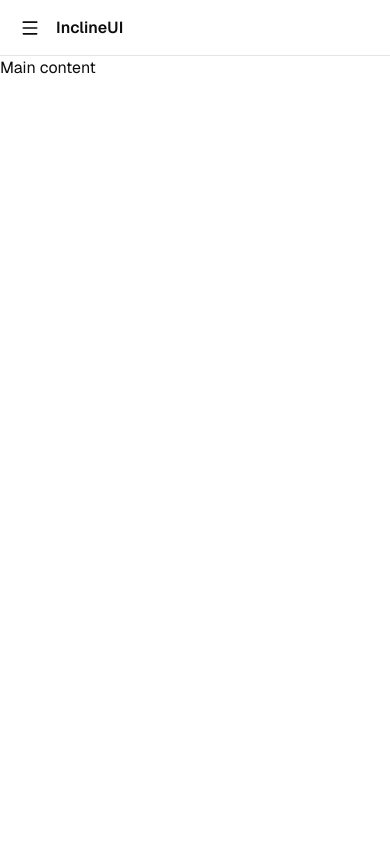
Scenario: <AppShell /> on mobile › closes when the overlay is clicked
Click the button named "Open sidebar": coordinates (30, 28) left=12, top=10, right=48, bottom=46
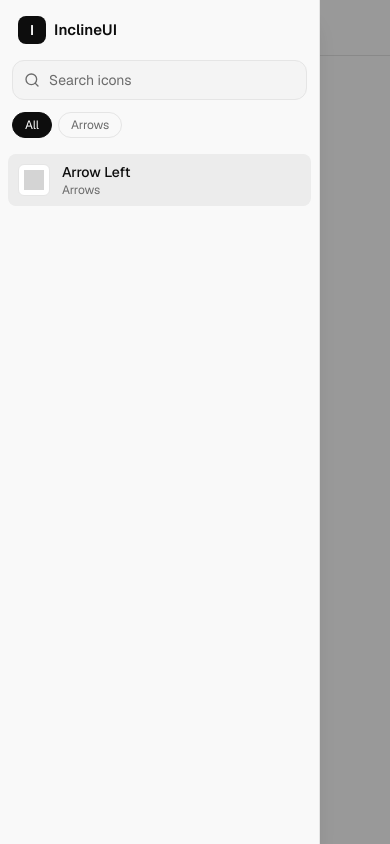
Click the button named "Close sidebar": coordinates (367, 422) left=0, top=0, right=389, bottom=843
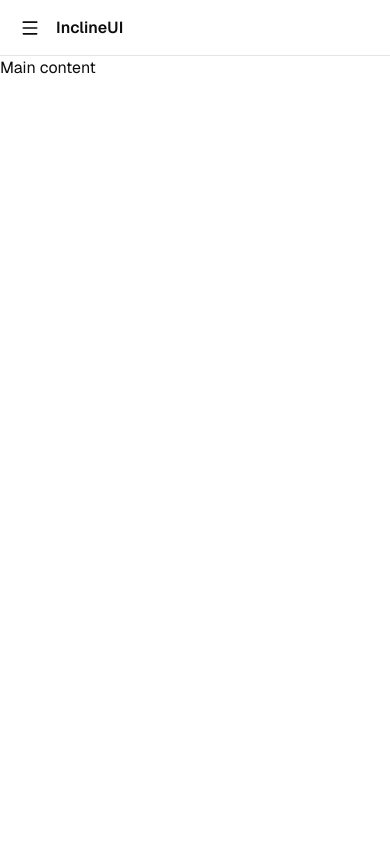
Now the dialog is gone
